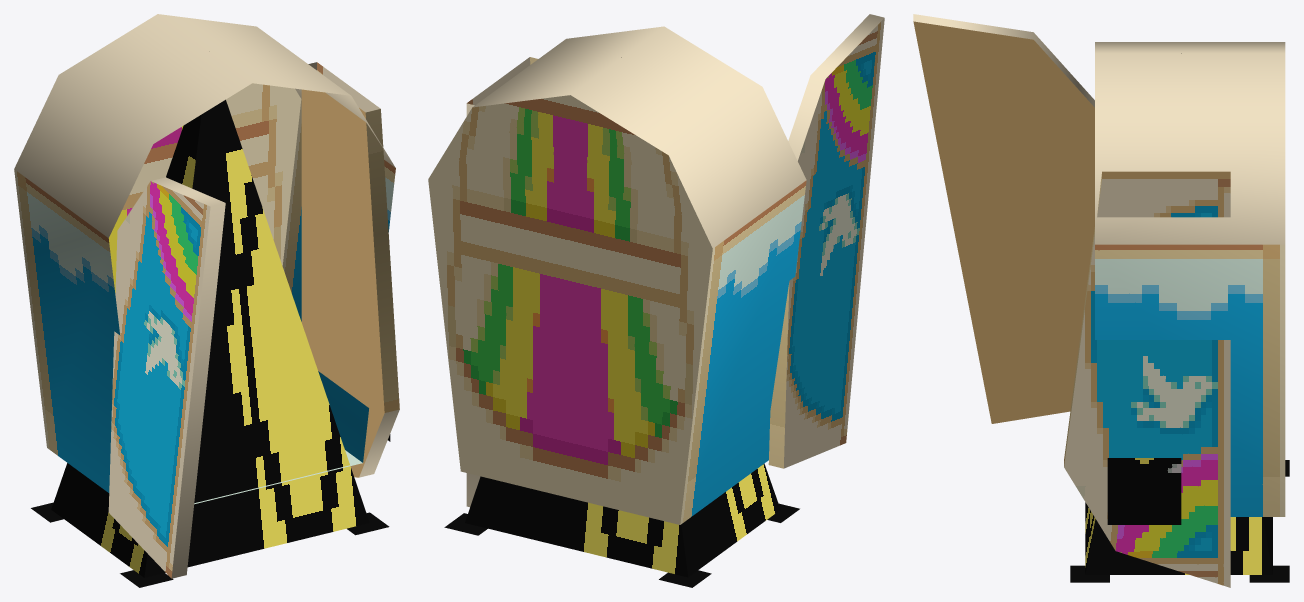
3 views of the same model, side by side, from view 1: azimuth 30°, elevation 25°; view 2: azimuth 150°, elevation 25°; view 3: azimuth 270°, elevation 25° (orthographic).
Parts seen in each view (by area): view 1: 3718kg_sk_cl0; view 2: 3718kg_sk_cl0; view 3: 3718kg_sk_cl0.
Part boxes in pixels (x1,y1,x2,y2): 3718kg_sk_cl0: [14, 14, 399, 587]; 3718kg_sk_cl0: [428, 14, 884, 587]; 3718kg_sk_cl0: [913, 14, 1289, 587].
Bounding box in the file's own units: 1.29 × 2 × 1.45.
3 materials, 3 textured.
